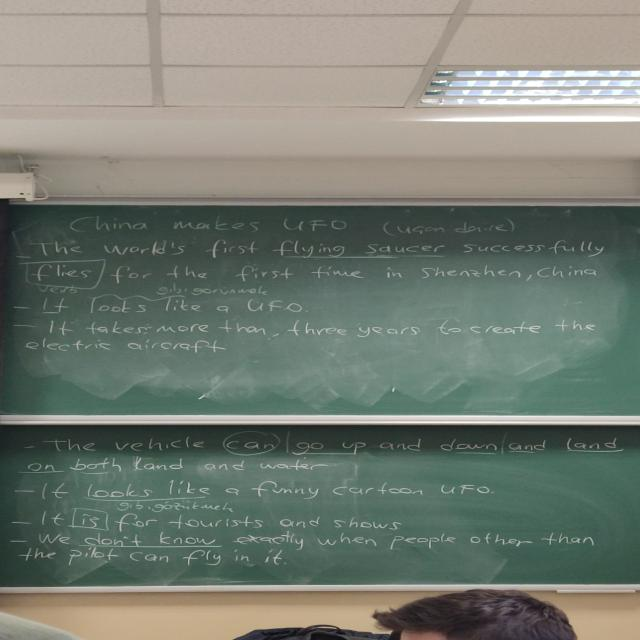text: (24, 318, 606, 360), (30, 262, 605, 300), (11, 531, 598, 567), (41, 478, 510, 514), (14, 238, 613, 265), (56, 209, 524, 243), (17, 432, 632, 456), (33, 508, 417, 531), (35, 294, 316, 319), (17, 457, 330, 476)
